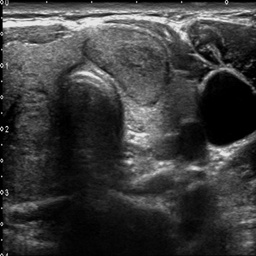mass: (81, 25, 169, 104)
